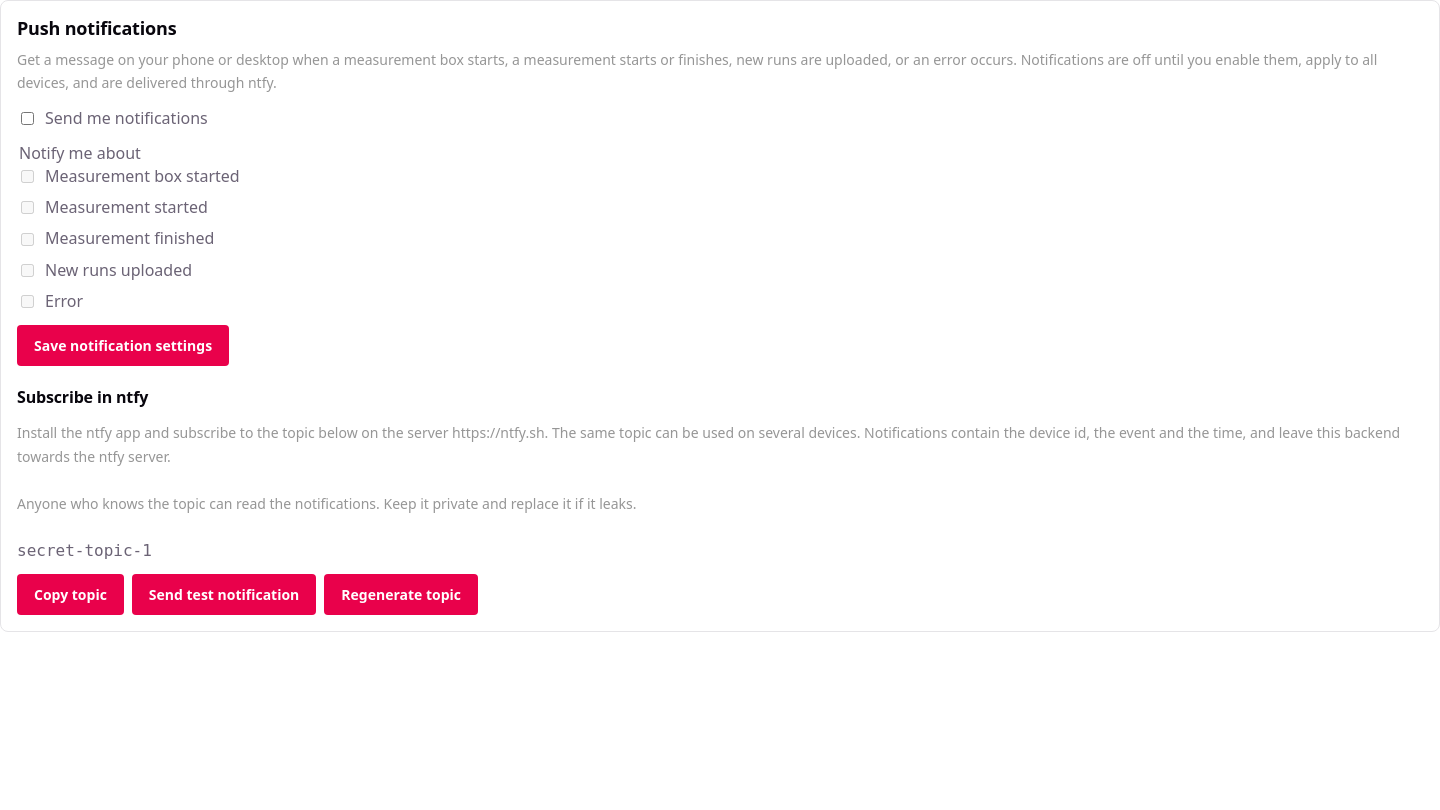
Test case: NotificationSettingsSection › reports a failed save
Click the button "Save notification settings" at point(123, 346), box [17,325,229,366]
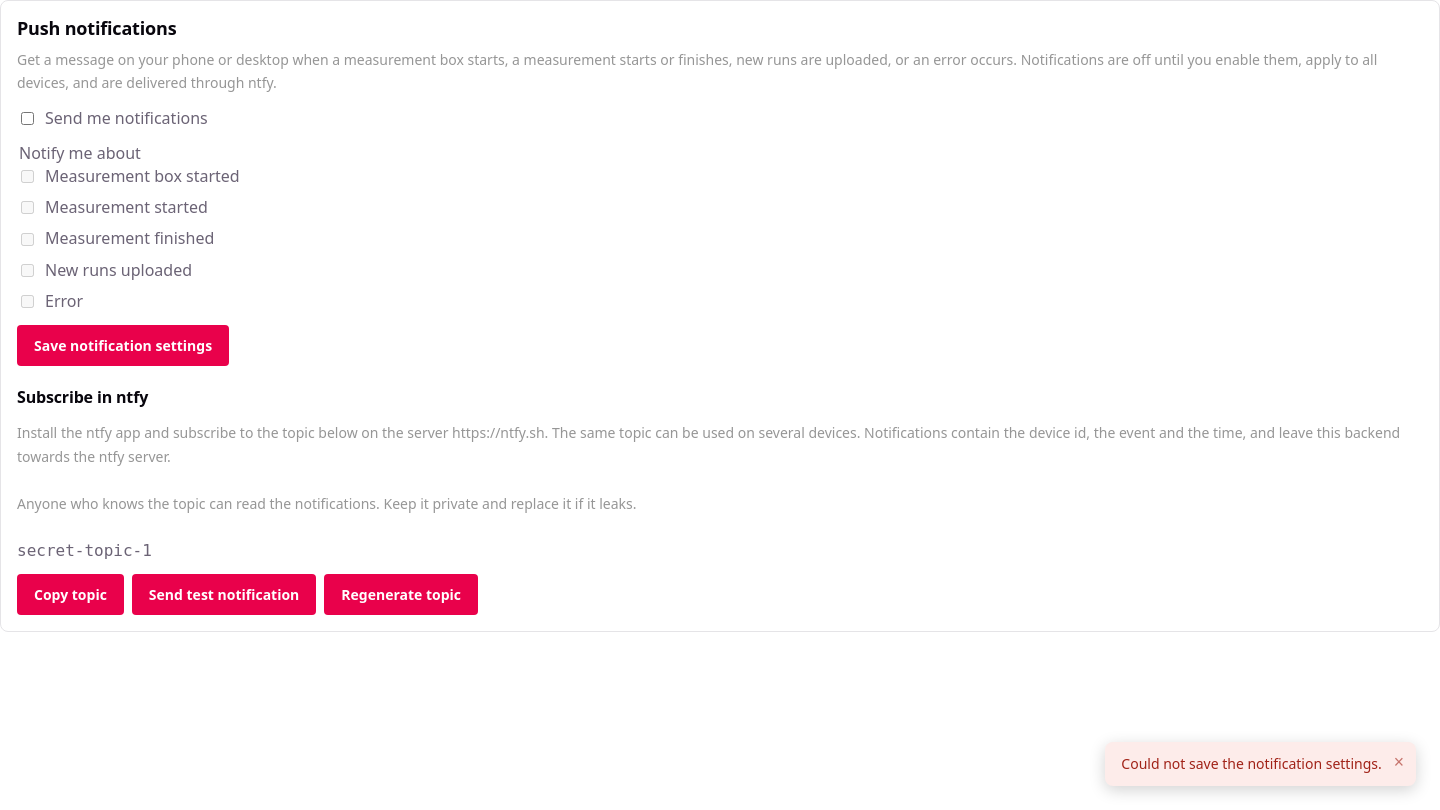
Expected: the text "Could not save the notification settings." is shown, [1121,754,1382,774]
